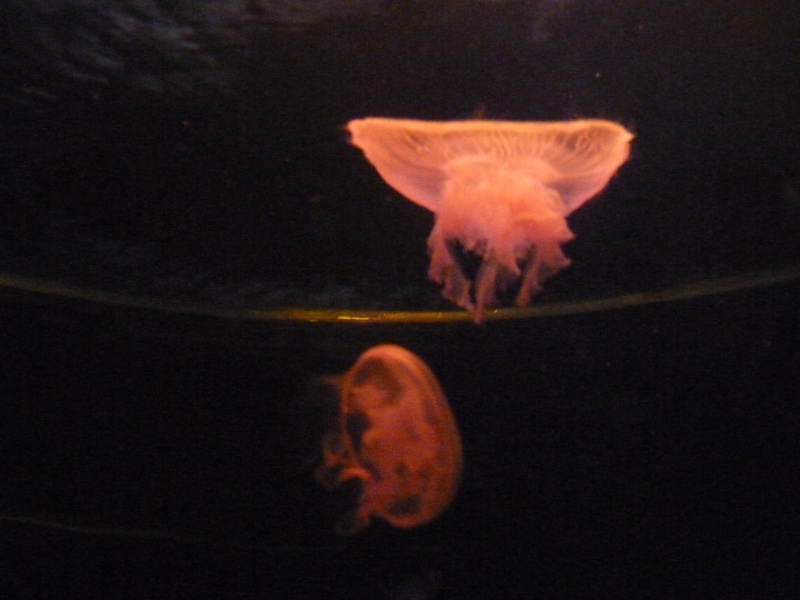Jellyfish: (338, 113, 653, 318), (323, 343, 465, 527)
